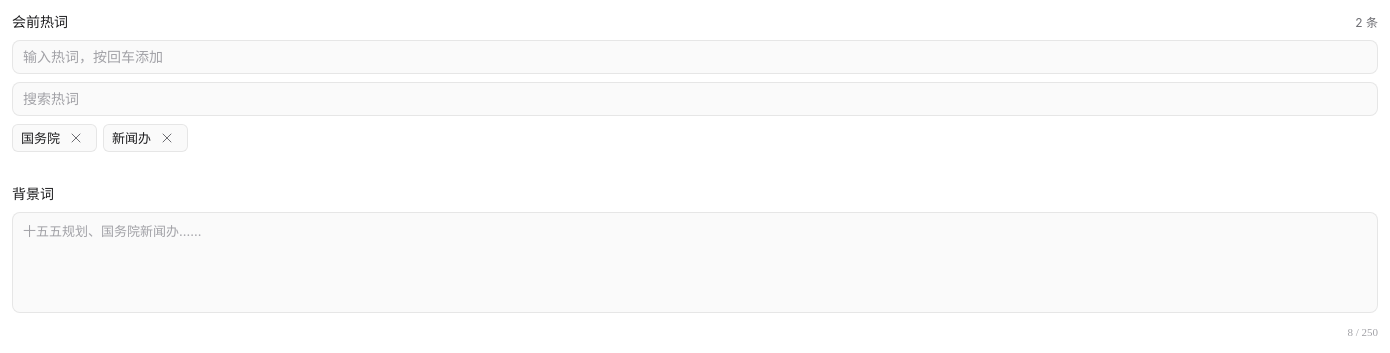
Test case: HotwordEditor › filters the visible list and shows the matching and total counts
In the search field: point(695, 99) [12,82,1378,116], type "新闻"
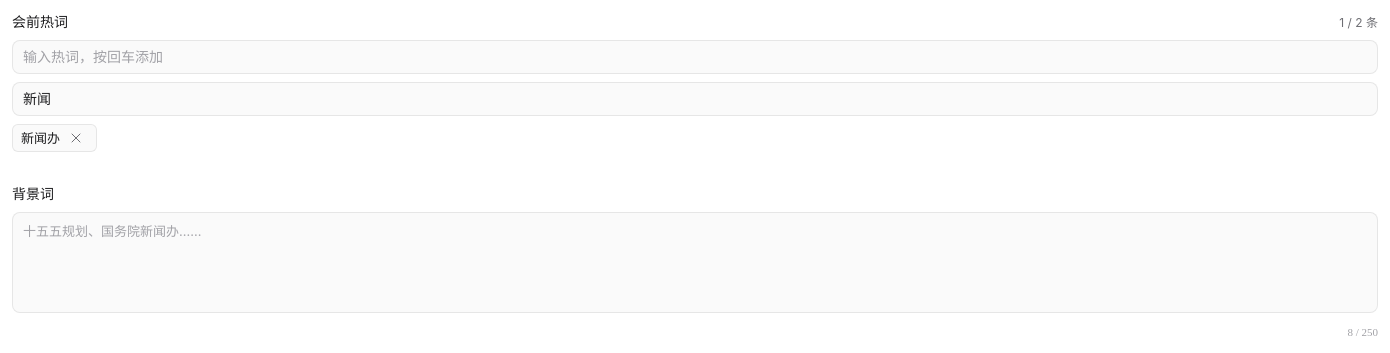
expect the text "新闻办" is shown: met, box [21,129,60,147]
expect the number of list items is 1: met, box [12,124,97,152]
expect the text "1 / 2 条" is shown: met, box [1339,15,1378,31]
